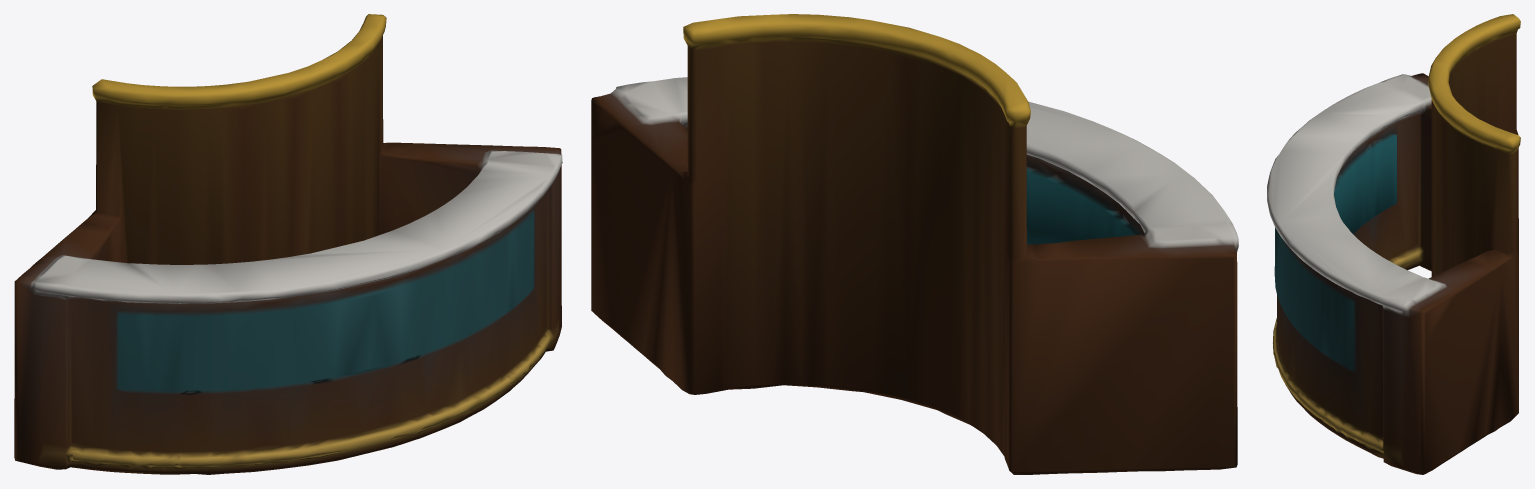
The model's file is lumiere-reception-desk.glb.
3 renders of one model, left to right at view 1: azimuth 30°, elevation 25°; view 2: azimuth 150°, elevation 25°; view 3: azimuth 270°, elevation 25°, orthographic. The views are drawn at different scales.
Parts seen in each view (by area): view 1: lumiere-reception-desk_LOD0; view 2: lumiere-reception-desk_LOD0; view 3: lumiere-reception-desk_LOD0.
Part boxes in pixels (x1,y1,x2,y2): lumiere-reception-desk_LOD0: [14, 14, 562, 474]; lumiere-reception-desk_LOD0: [591, 14, 1238, 474]; lumiere-reception-desk_LOD0: [1267, 14, 1520, 474].
Size of what is drawn, in the model's own units: 3.38 by 1.84 by 1.51.
